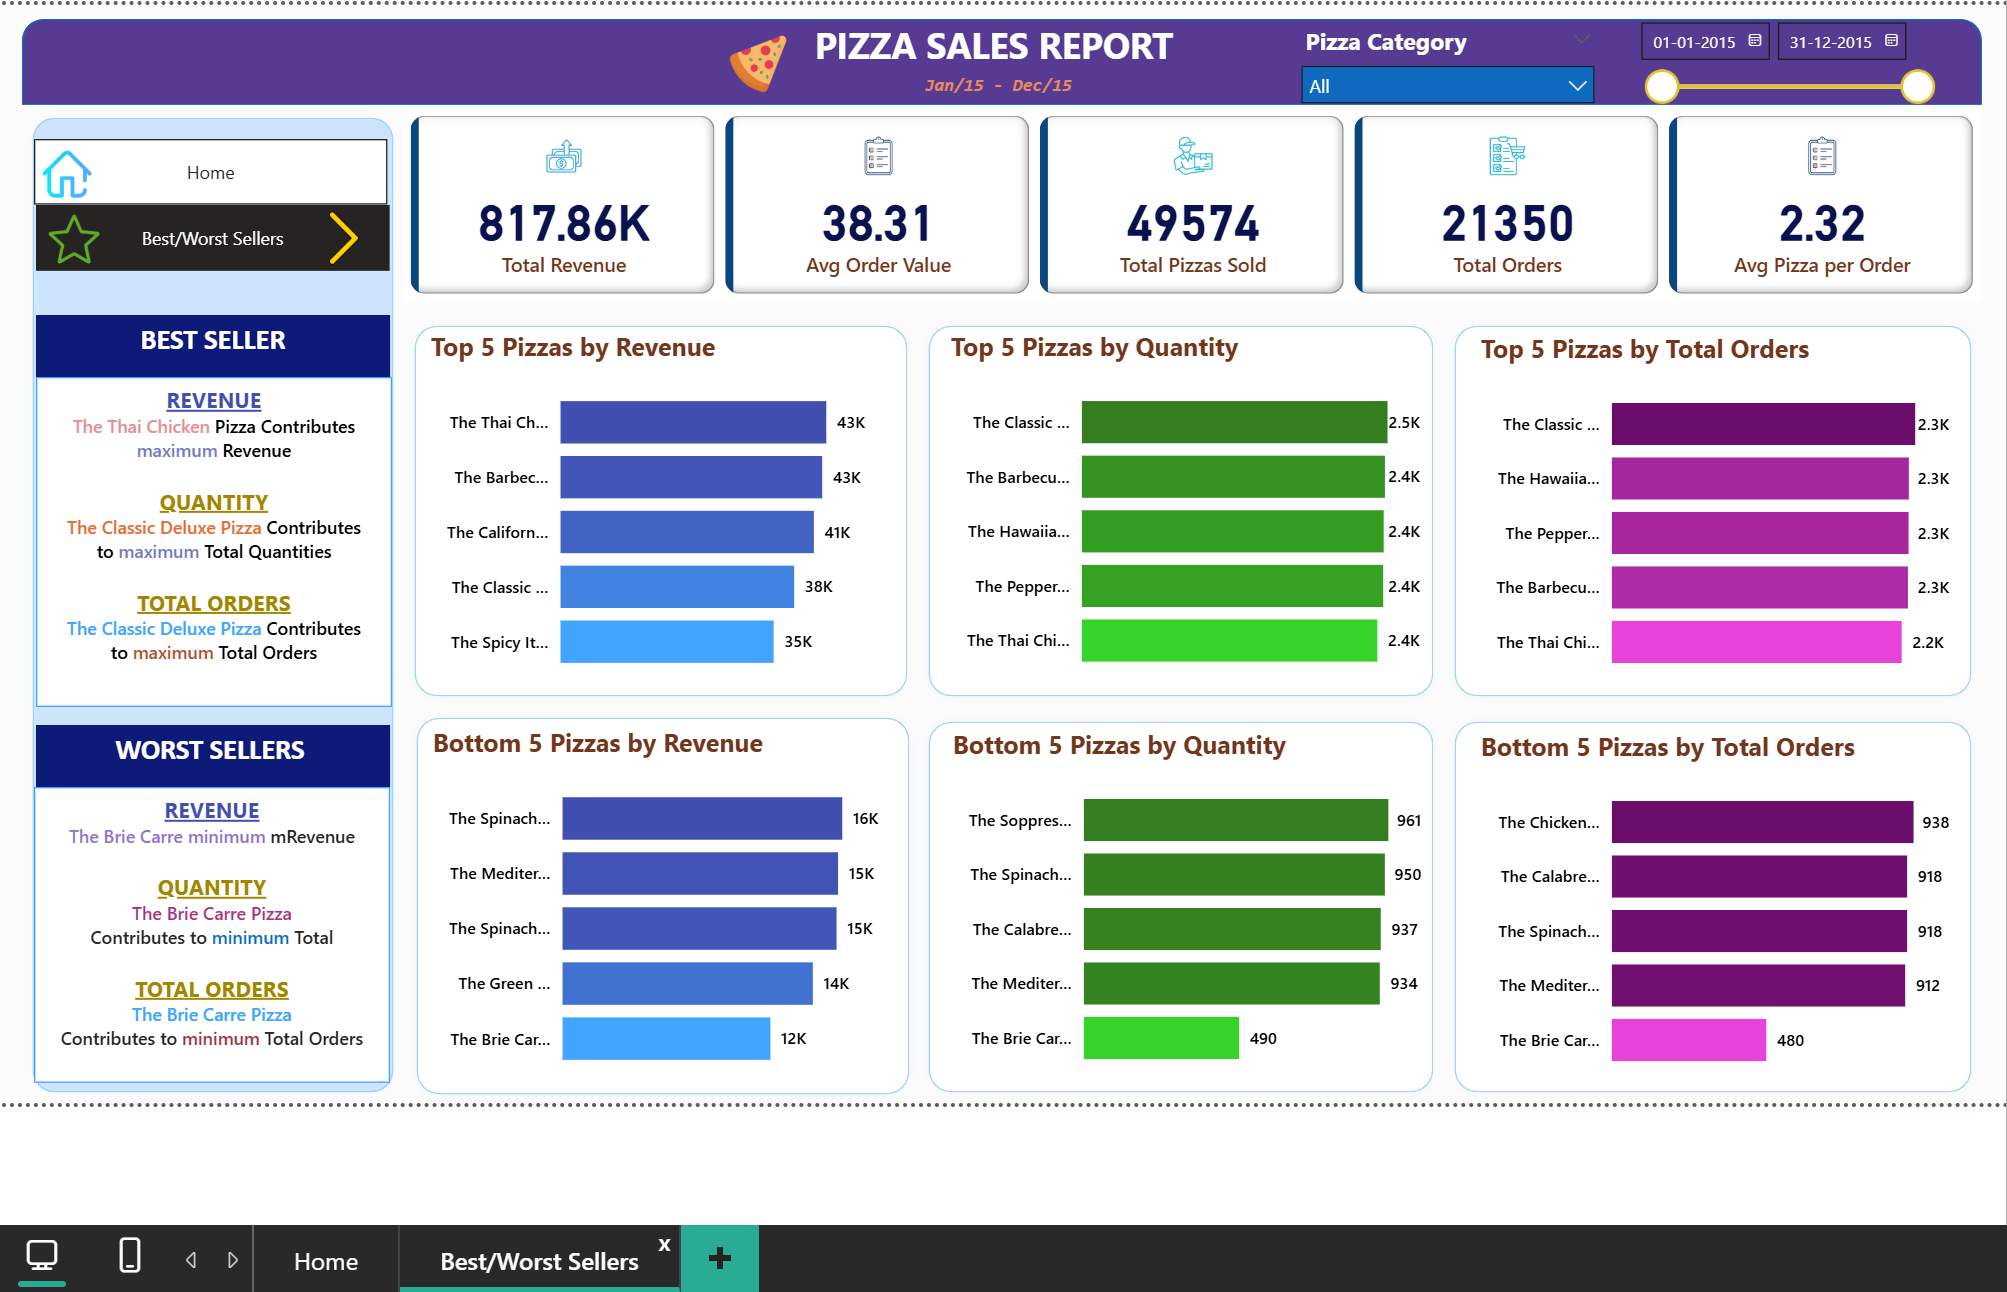

This screenshot's page, from the dashboard's own definition file:
{"tool":"powerbi","page":{"name":"Best/Worst Sellers","canvas":[1500,820],"ordinal":1},"visuals":[{"type":"shape","box":[17.9,76.2,285.4,744],"z":0},{"type":"textbox","box":[28.4,231.6,264.4,46.3],"z":1000},{"type":"cardVisual","fields":{"Data":["public pizza_sales.Total Revenue","public pizza_sales.Avg Order Value","public pizza_sales.Total Pizzas Sold","public pizza_sales.Total Orders","public pizza_sales.Avg Pizza per Order"]},"box":[303.3,77.7,1178.8,143.4],"z":2000},{"type":"shape","box":[17.9,10.5,1464.1,64.2],"z":3000},{"type":"textbox","box":[605.1,6,289.8,53.8],"z":4000},{"type":"textbox","box":[687.3,44.8,124,29.9],"z":5000},{"type":"image","box":[540.8,10.5,53.8,67.2],"z":6000},{"type":"shape","box":[303.3,231.6,384,292.8],"z":7000},{"type":"textbox","box":[28.4,277.9,265.9,246.5],"z":17000},{"type":"textbox","box":[28.4,537.8,264.4,46.3],"z":18000},{"type":"textbox","box":[26.9,584.2,265.9,221.1],"z":19000},{"type":"slicer","fields":{"Values":["public pizza_sales.pizza_category"]},"box":[963.6,10.5,239,64.2],"z":20000},{"type":"slicer","fields":{"Values":["public pizza_sales.order_date"]},"box":[1214.6,3,240.5,71.7],"z":21000},{"type":"shape","box":[687.3,231.6,392.9,292.8],"z":21001},{"type":"shape","box":[1080.2,231.6,401.9,292.8],"z":21002},{"type":"shape","box":[304.8,524.4,384,297.3],"z":21003},{"type":"shape","box":[687.3,527.4,392.9,292.8],"z":21004},{"type":"shape","box":[1080.2,527.4,401.9,292.8],"z":21005},{"type":"barChart","title":"Top 5 Pizzas by Revenue","fields":{"Category":["public pizza_sales.pizza_name"],"Y":["public pizza_sales.Total Revenue"]},"box":[318.2,242,355.6,271.9],"z":21006},{"type":"barChart","title":"Bottom 5 Pizzas by Revenue","fields":{"Category":["public pizza_sales.pizza_name"],"Y":["public pizza_sales.Total Revenue"]},"box":[319.4,538.3,355.3,272.7],"z":21007},{"type":"barChart","title":"Top 5 Pizzas by Quantity","fields":{"Category":["public pizza_sales.pizza_name"],"Y":["public pizza_sales.Total Pizzas Sold"]},"box":[706.9,242.2,360.6,270.9],"z":21008},{"type":"barChart","title":"Bottom 5 Pizzas by Quantity","fields":{"Category":["public pizza_sales.pizza_name"],"Y":["public pizza_sales.Total Pizzas Sold"]},"box":[708.2,539.3,360.1,270.4],"z":21009},{"type":"barChart","title":"Top 5 Pizzas by Total Orders","fields":{"Category":["public pizza_sales.pizza_name"],"Y":["public pizza_sales.Total Orders"]},"box":[1102.6,243.5,360.1,270.4],"z":21010},{"type":"barChart","title":"Bottom 5 Pizzas by Total Orders","fields":{"Category":["public pizza_sales.pizza_name"],"Y":["public pizza_sales.Total Orders"]},"box":[1102.6,540.8,360.1,270.4],"z":21011},{"type":"pageNavigator","box":[28.4,149.4,264.4,49.3],"z":21012},{"type":"pageNavigator","box":[26.9,100.1,264.4,49.3],"z":21013},{"type":"image","box":[225.6,149.4,65.7,49.3],"z":21014},{"type":"image","box":[28.4,101.6,46.3,49.3],"z":21015},{"type":"image","box":[26.9,150.9,59.8,47.8],"z":21016}]}

Visuals, with their boxes on the page's 1500x820 design canvas (x1, y1, x2, y2). These are canvas units, not pixel positions in the 2007x1292 screenshot, which may show the page scaled, cropped or inside an application window:
shape: [x1=18, y1=76, x2=303, y2=820]
textbox: [x1=28, y1=232, x2=293, y2=278]
cardVisual - public pizza_sales.Total Revenue x public pizza_sales.Avg Order Value: [x1=303, y1=78, x2=1482, y2=221]
shape: [x1=18, y1=10, x2=1482, y2=75]
textbox: [x1=605, y1=6, x2=895, y2=60]
textbox: [x1=687, y1=45, x2=811, y2=75]
image: [x1=541, y1=10, x2=595, y2=78]
shape: [x1=303, y1=232, x2=687, y2=524]
textbox: [x1=28, y1=278, x2=294, y2=524]
textbox: [x1=28, y1=538, x2=293, y2=584]
textbox: [x1=27, y1=584, x2=293, y2=805]
slicer - public pizza_sales.pizza_category: [x1=964, y1=10, x2=1203, y2=75]
slicer - public pizza_sales.order_date: [x1=1215, y1=3, x2=1455, y2=75]
shape: [x1=687, y1=232, x2=1080, y2=524]
shape: [x1=1080, y1=232, x2=1482, y2=524]
shape: [x1=305, y1=524, x2=689, y2=822]
shape: [x1=687, y1=527, x2=1080, y2=820]
shape: [x1=1080, y1=527, x2=1482, y2=820]
"Top 5 Pizzas by Revenue" barChart: [x1=318, y1=242, x2=674, y2=514]
"Bottom 5 Pizzas by Revenue" barChart: [x1=319, y1=538, x2=675, y2=811]
"Top 5 Pizzas by Quantity" barChart: [x1=707, y1=242, x2=1068, y2=513]
"Bottom 5 Pizzas by Quantity" barChart: [x1=708, y1=539, x2=1068, y2=810]
"Top 5 Pizzas by Total Orders" barChart: [x1=1103, y1=244, x2=1463, y2=514]
"Bottom 5 Pizzas by Total Orders" barChart: [x1=1103, y1=541, x2=1463, y2=811]
pageNavigator: [x1=28, y1=149, x2=293, y2=199]
pageNavigator: [x1=27, y1=100, x2=291, y2=149]
image: [x1=226, y1=149, x2=291, y2=199]
image: [x1=28, y1=102, x2=75, y2=151]
image: [x1=27, y1=151, x2=87, y2=199]
